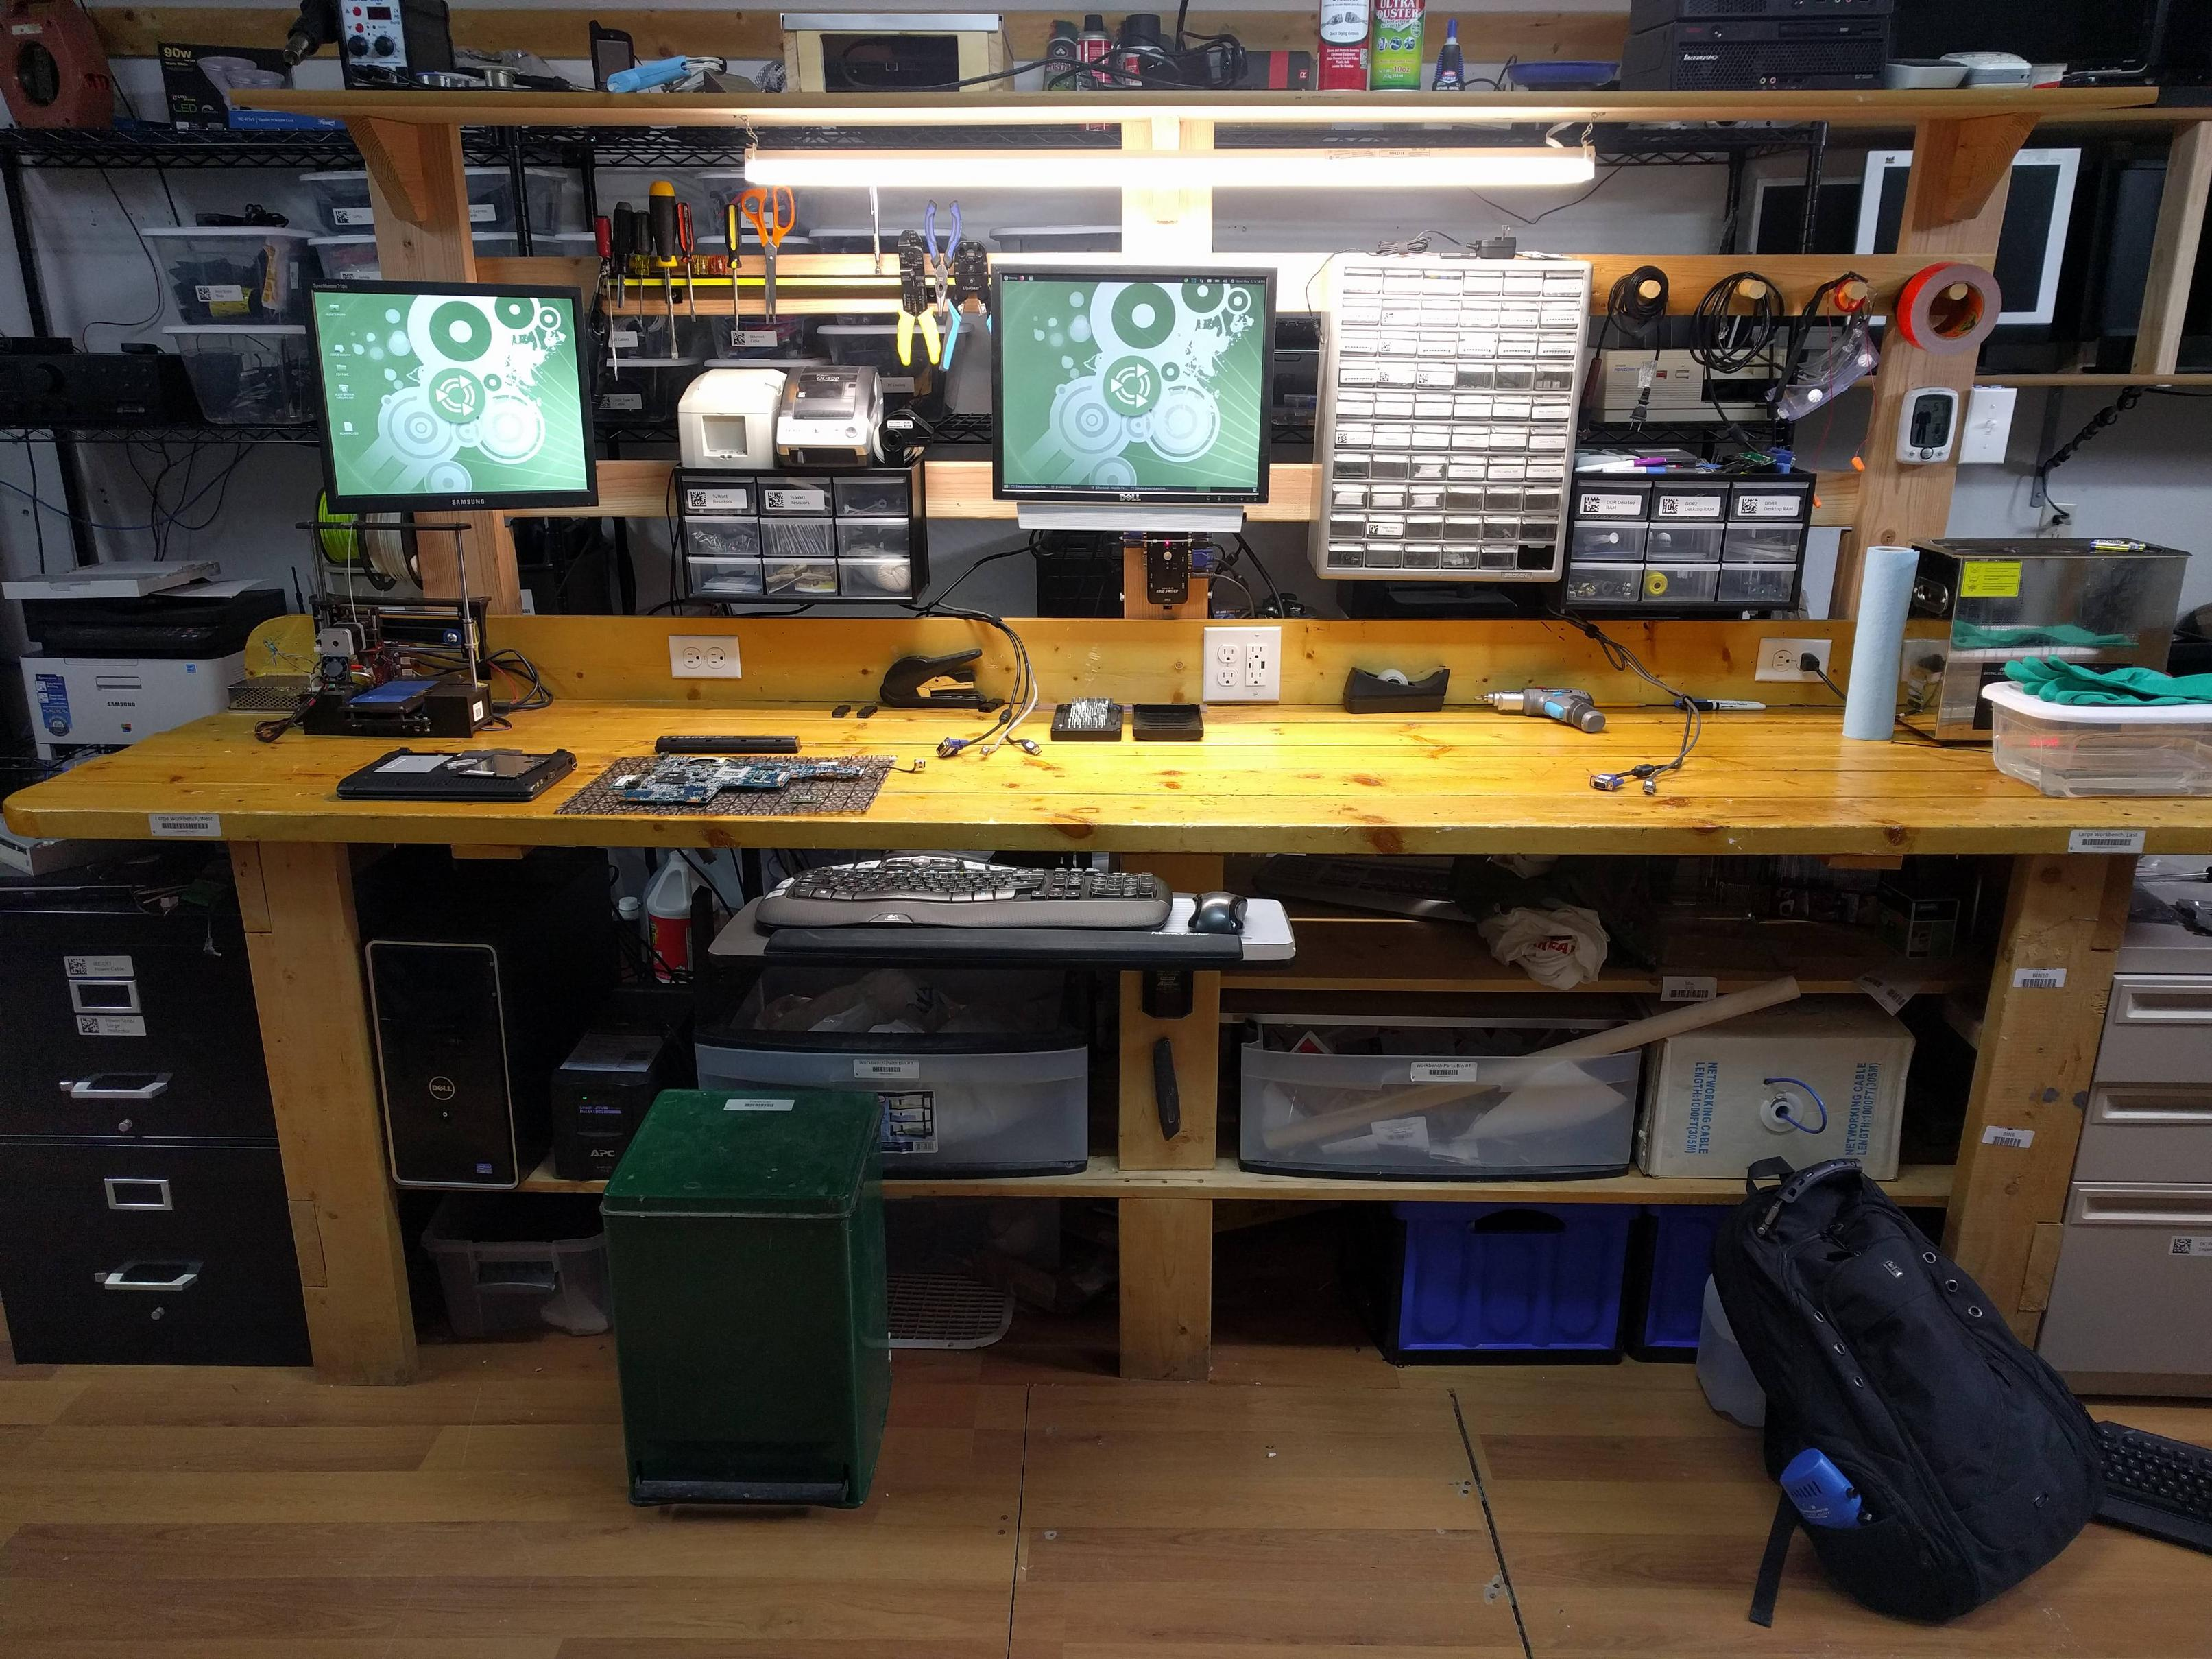Desk (Standing): (0, 615, 2212, 885)
Desktop (Generic): (357, 896, 564, 1185)
Keyboard (Generic): (754, 854, 1172, 929)
Laptop (Generic): (336, 744, 578, 802)
Monitor (Landscape): (300, 281, 604, 514), (988, 267, 1273, 504), (1846, 146, 2081, 322), (1745, 176, 1864, 254)
Mouse (Generic): (1188, 892, 1247, 932)
Printer: (16, 596, 286, 755)
Storage Drawer: (1306, 251, 1594, 580), (688, 957, 1094, 1180), (1226, 1006, 1648, 1188), (1367, 1206, 1737, 1375), (1573, 474, 1818, 622), (672, 465, 928, 603)
